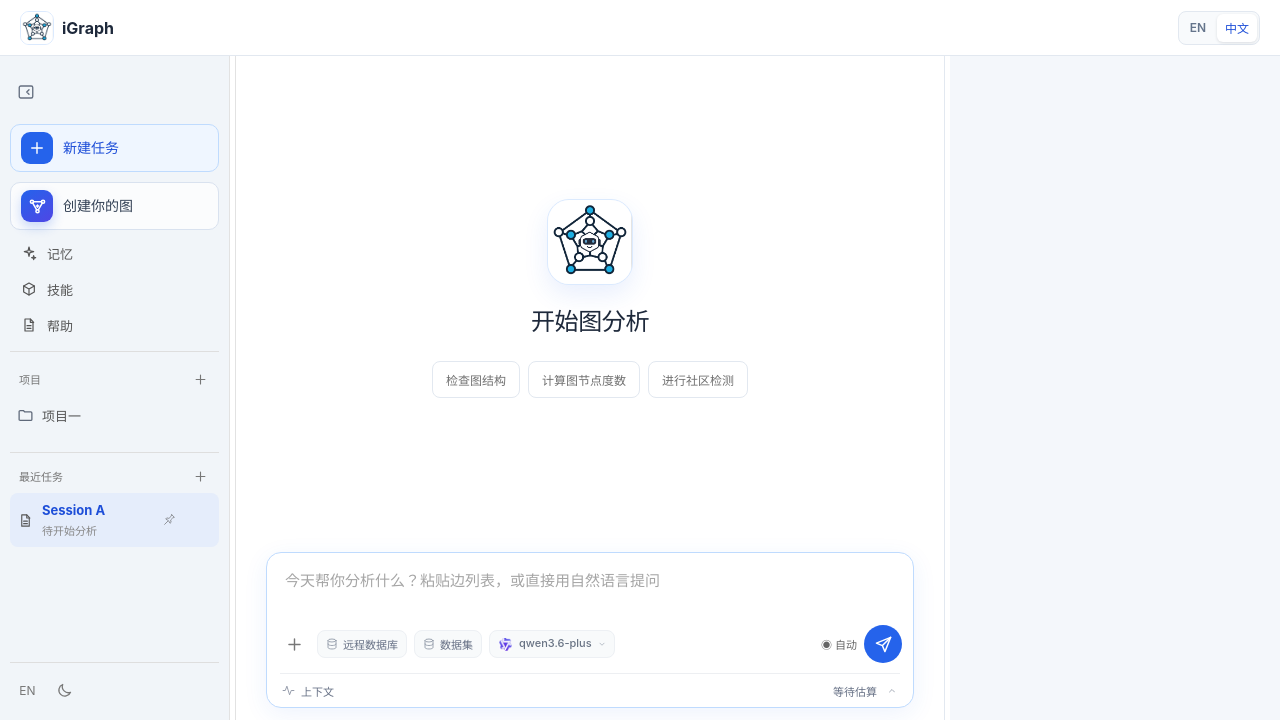
Test: toggling a project keeps the current conversation, draft and URL
Type "尚未发送的问题" into the text box with placeholder "今天帮你分析什么？粘贴边列表，或直接用自然语言提问" at (590, 589), box [267, 553, 913, 625]
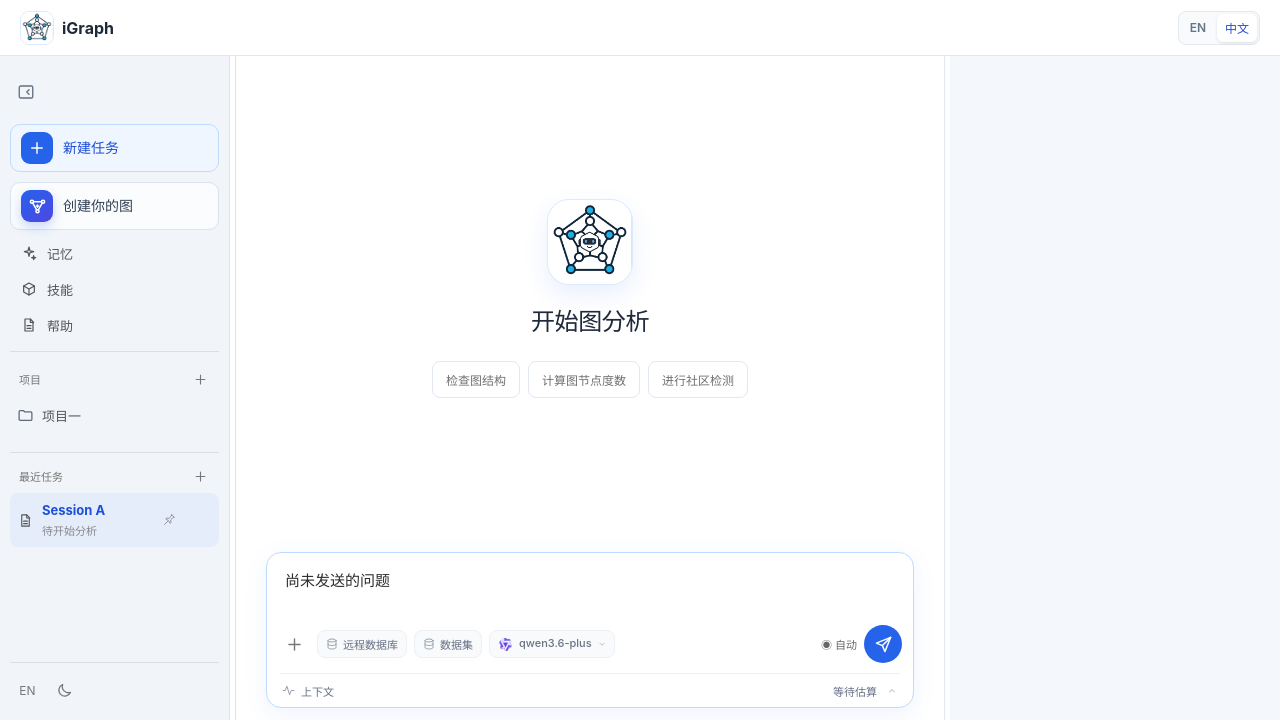
Click the button "项目一" at (74, 415), box [13, 398, 136, 432]
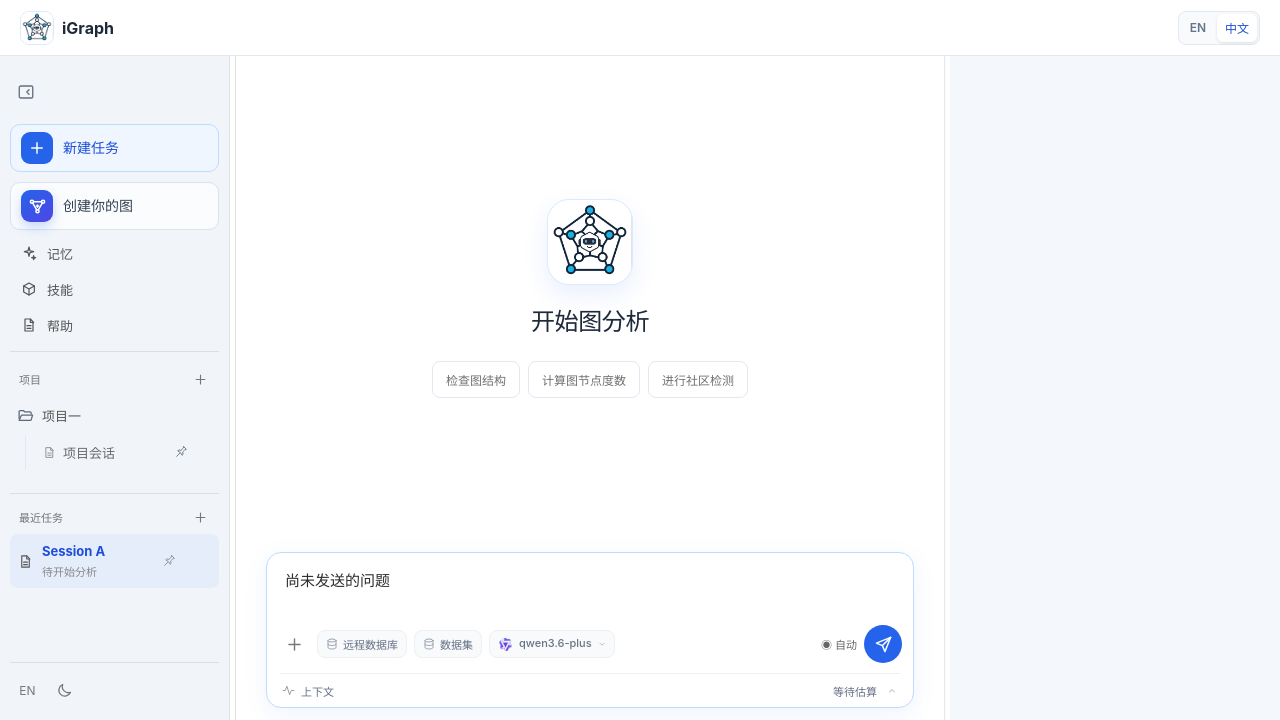
Check: the button "项目一" is expanded
Check: the button "项目会话" is shown, box [38, 436, 171, 469]
Click the button "项目一" at (74, 415), box [13, 398, 136, 432]
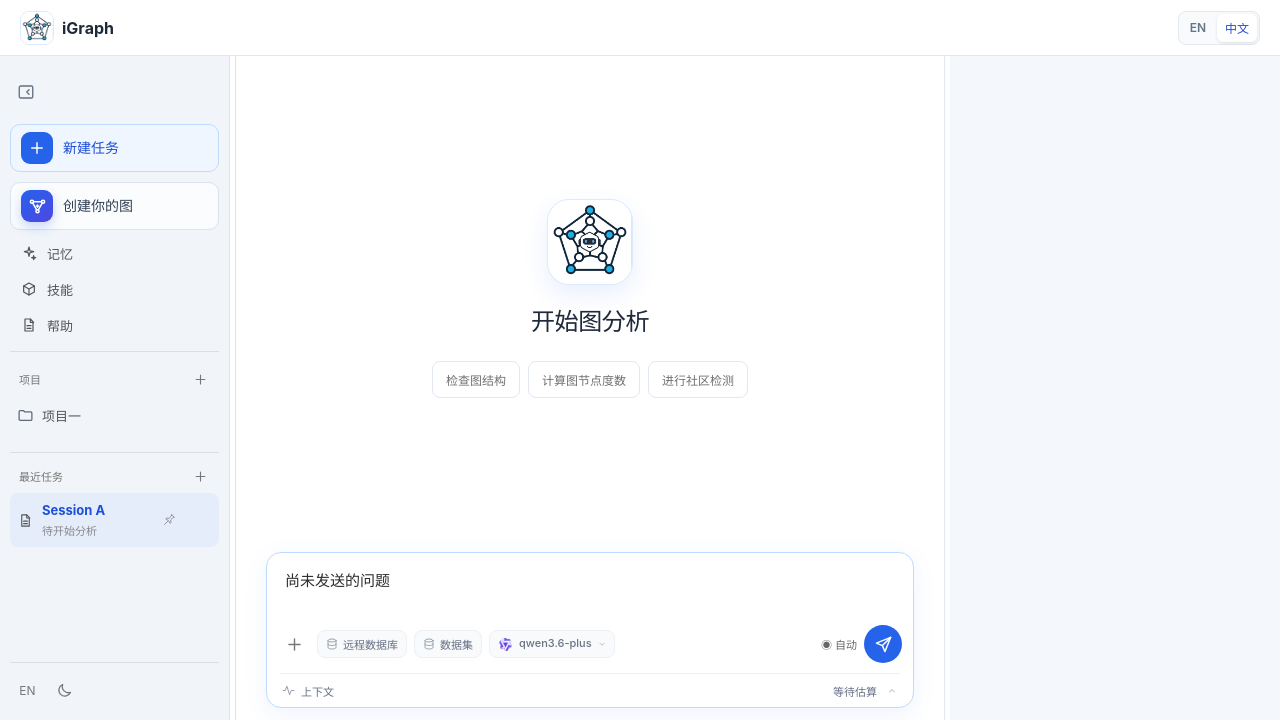
Check: the button "项目一" is collapsed, box [13, 398, 136, 432]
Check: the button "项目会话" is gone
